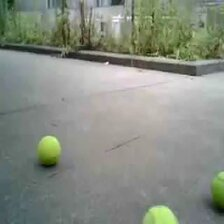tennis: (142, 203, 178, 224), (37, 137, 59, 164), (211, 171, 224, 206)
